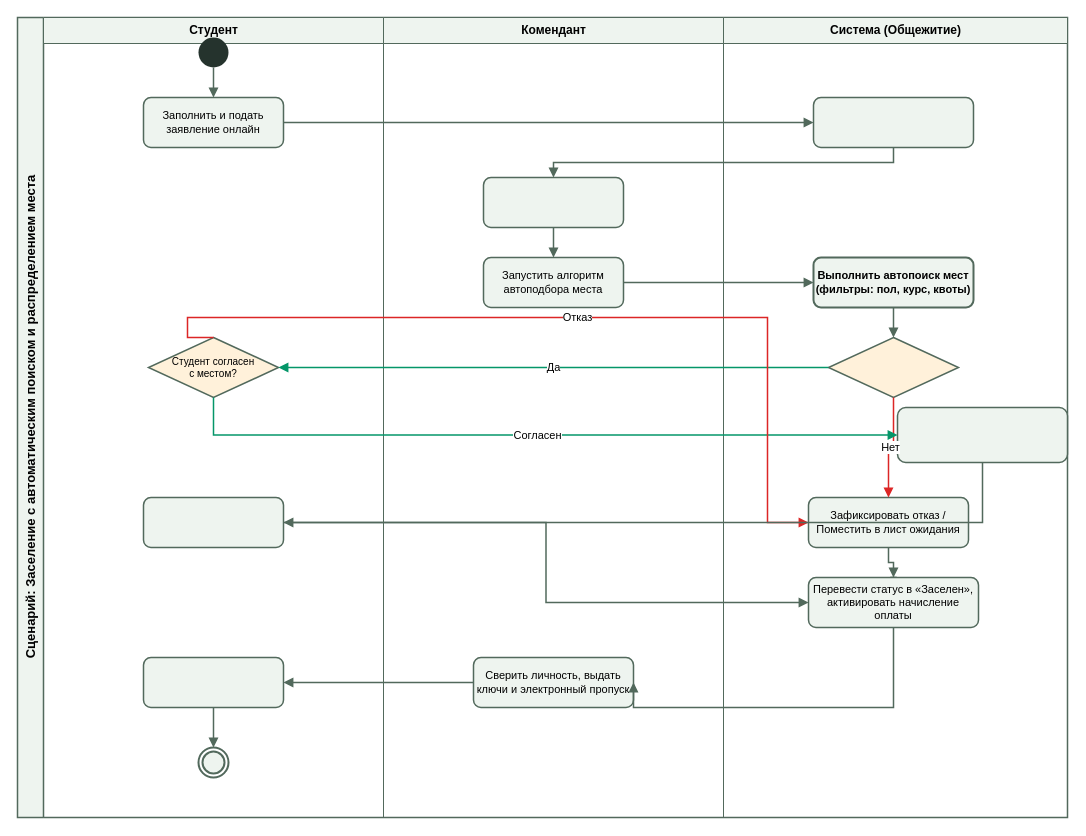
Image size: 1086x836. Some labels were removed from this diagram. Each missing label, with the centre of its shape:
"Валидация данных заявления и льготного статуса" goes at [893,122].
"Заблокировать койко-место (SELECT FOR UPDATE) и сформировать проект договора" goes at [982,434].
"Место найдено?" goes at [893,367].
"Подписать договор найма в личном кабинете" goes at [213,522].
"Получить ключи и заселиться в комнату" goes at [213,682].
"Проверить документы и статус заявления" goes at [553,202].
